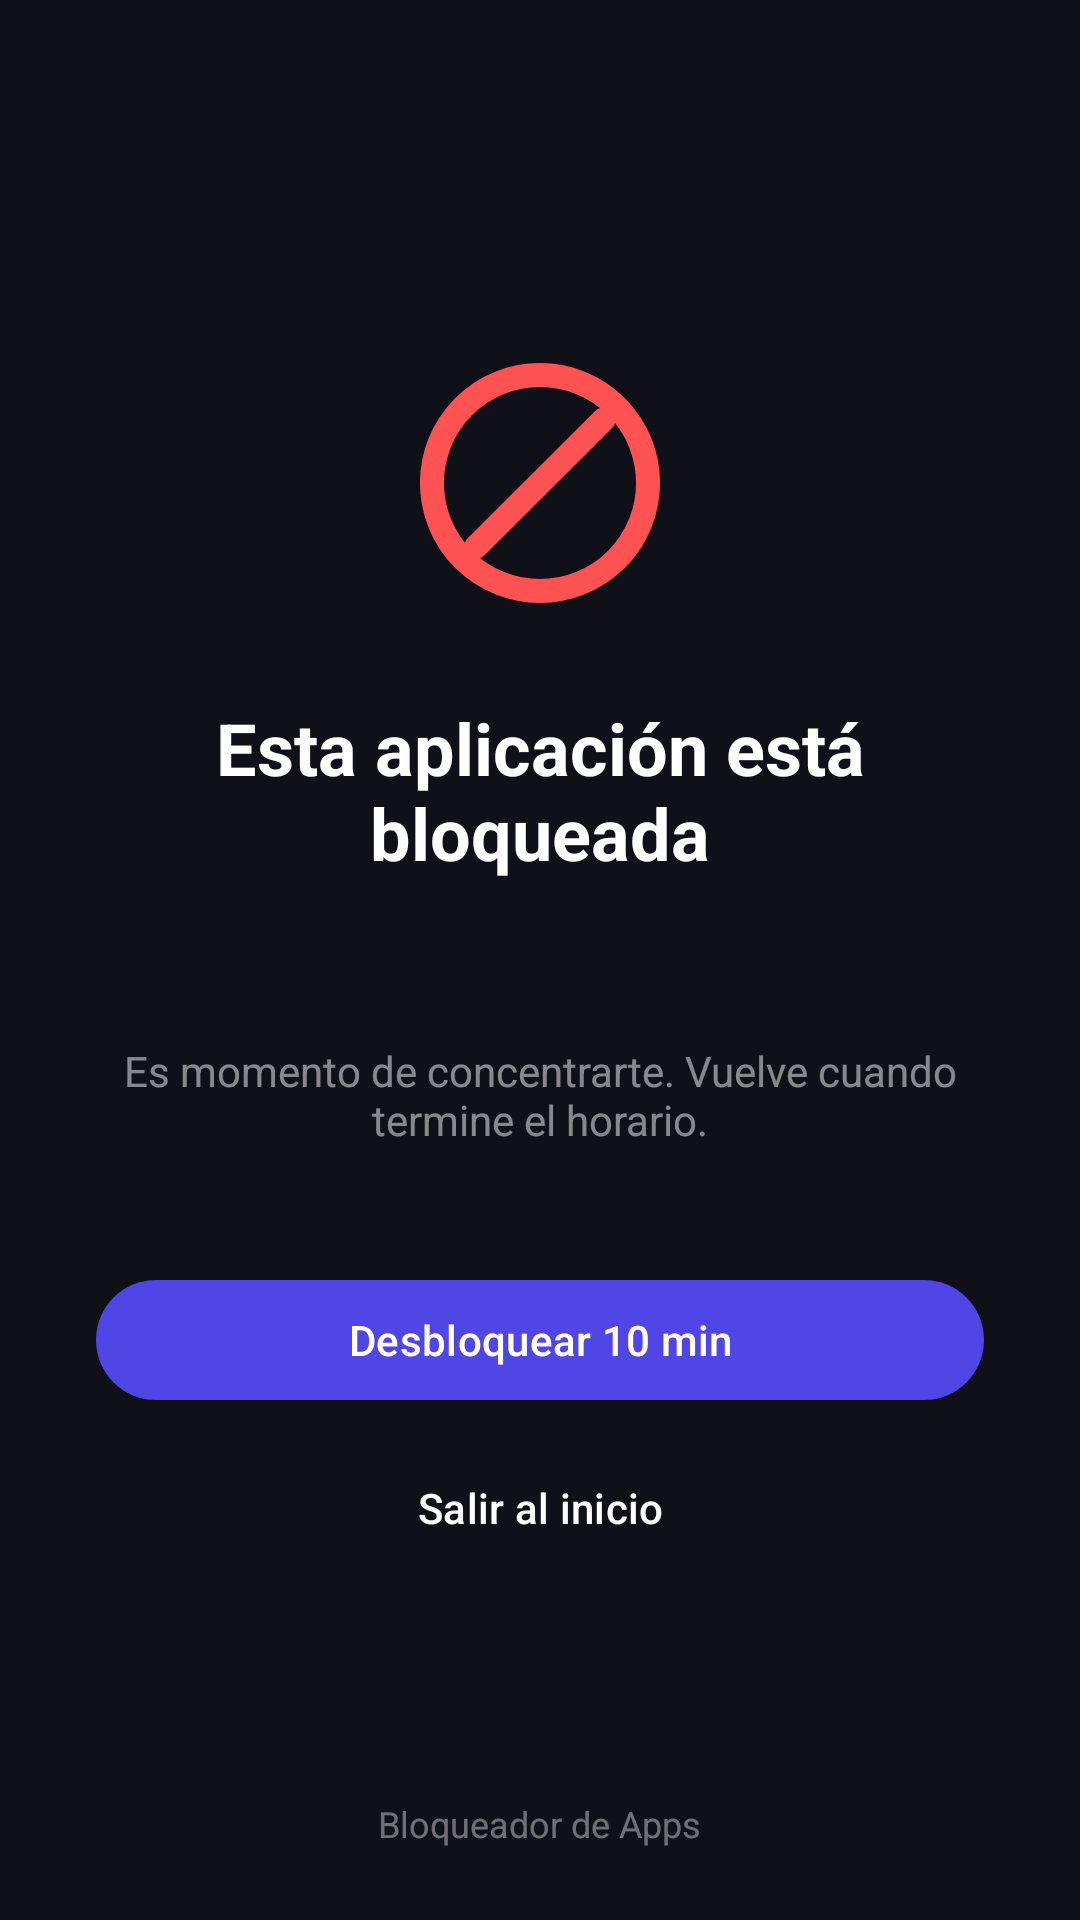

Where icons sit on this 1080px x 1920px app screen, as rect(x1, y1, x2, y2):
block: rect(420, 363, 660, 603)
